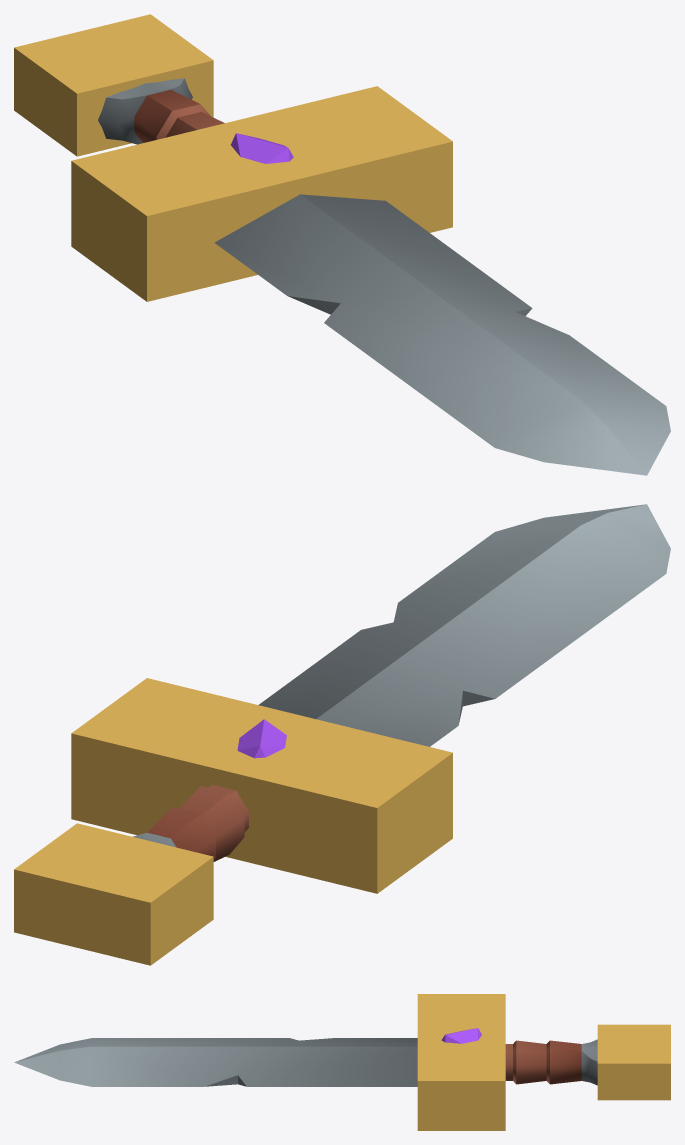
Rendered from knight_sword_t3_epic.glb.
3 views of the same model, one above another, from view 1: azimuth 30°, elevation 25°; view 2: azimuth 150°, elevation 25°; view 3: azimuth 270°, elevation 25° (orthographic). The views are drawn at different scales.
Visible parts, largest first — view 1: knight_sword_t3_epic__handslot_r; view 2: knight_sword_t3_epic__handslot_r; view 3: knight_sword_t3_epic__handslot_r.
Part boxes in pixels (<box>): knight_sword_t3_epic__handslot_r: <box>14,14,670,475</box>; knight_sword_t3_epic__handslot_r: <box>14,504,670,965</box>; knight_sword_t3_epic__handslot_r: <box>14,994,670,1130</box>.
Size of the model in its own units: 0.56 by 0.1871 by 1.79.
Materials: 3 (2 with a texture image).
